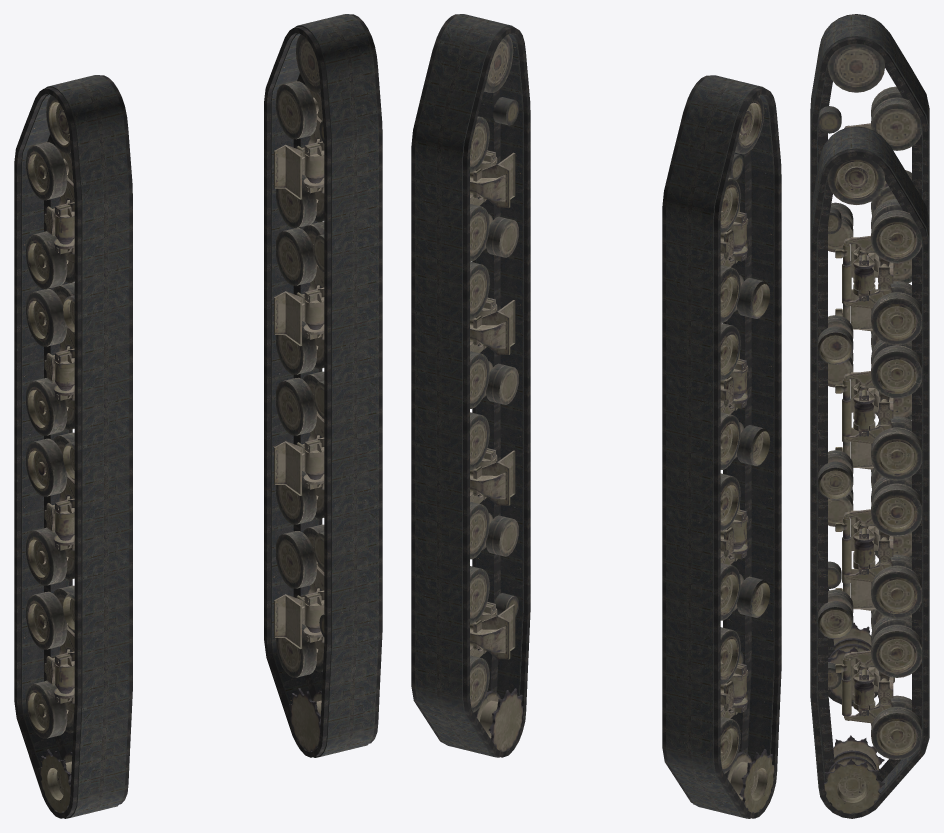
Rendered from Chassis.glb.
3 renders of one model, left to right at view 1: azimuth 30°, elevation 25°; view 2: azimuth 150°, elevation 25°; view 3: azimuth 270°, elevation 25°, orthographic. The views are drawn at different scales.
Parts seen in each view (by area): view 1: set_1_group_0, set_0_group_0, set_3_group_0, set_2_group_0; view 2: set_1_group_0, set_0_group_0, set_3_group_0, set_2_group_0; view 3: set_3_group_0, set_0_group_0, set_2_group_0, set_1_group_0.
Boxes of the visible parts, left/top/right/bottom form: set_1_group_0: left=14, top=75, right=132, bottom=818; set_0_group_0: left=264, top=14, right=382, bottom=757; set_3_group_0: left=274, top=34, right=376, bottom=756; set_2_group_0: left=26, top=95, right=126, bottom=815; set_1_group_0: left=662, top=75, right=781, bottom=818; set_0_group_0: left=411, top=14, right=530, bottom=757; set_3_group_0: left=441, top=34, right=523, bottom=757; set_2_group_0: left=693, top=95, right=774, bottom=818; set_3_group_0: left=818, top=156, right=921, bottom=813; set_0_group_0: left=810, top=126, right=929, bottom=818; set_2_group_0: left=818, top=43, right=921, bottom=701; set_1_group_0: left=810, top=14, right=929, bottom=706.
Size of the model in its own units: 3.18 by 7.23 by 1.16.
4 materials, 4 textured.
